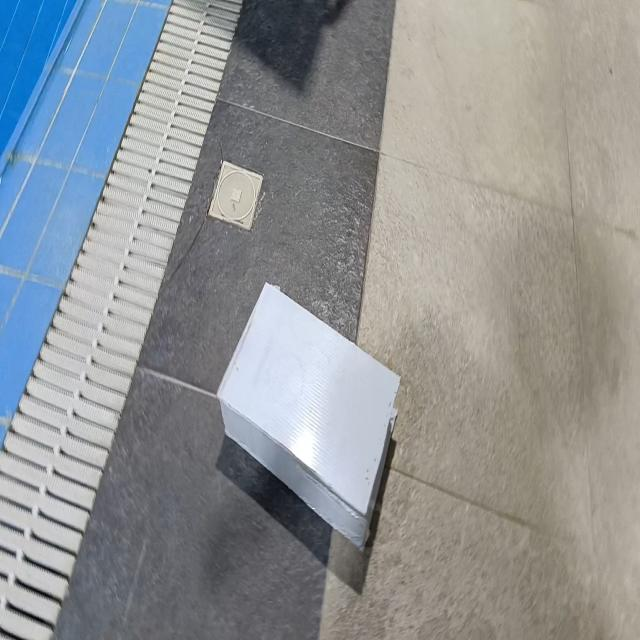Cuboid: (216, 279, 401, 550)
